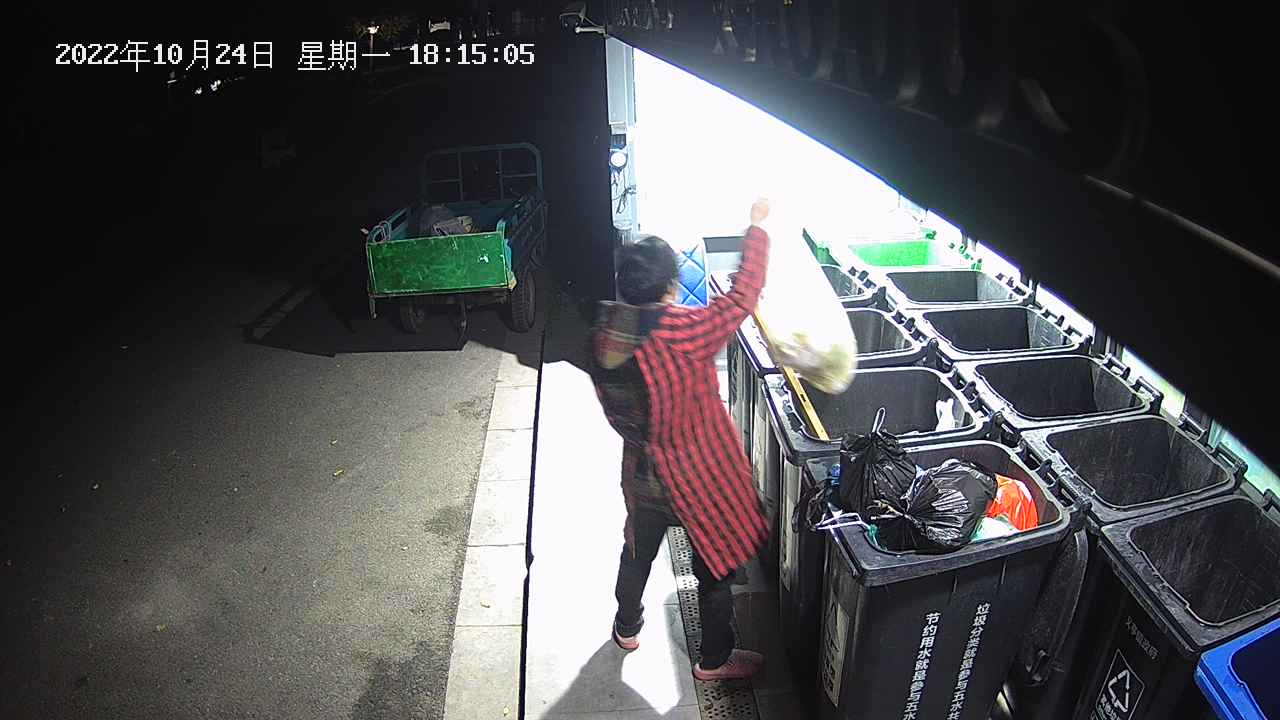garbage-bag: (754, 192, 859, 396)
person: (585, 195, 773, 682)
